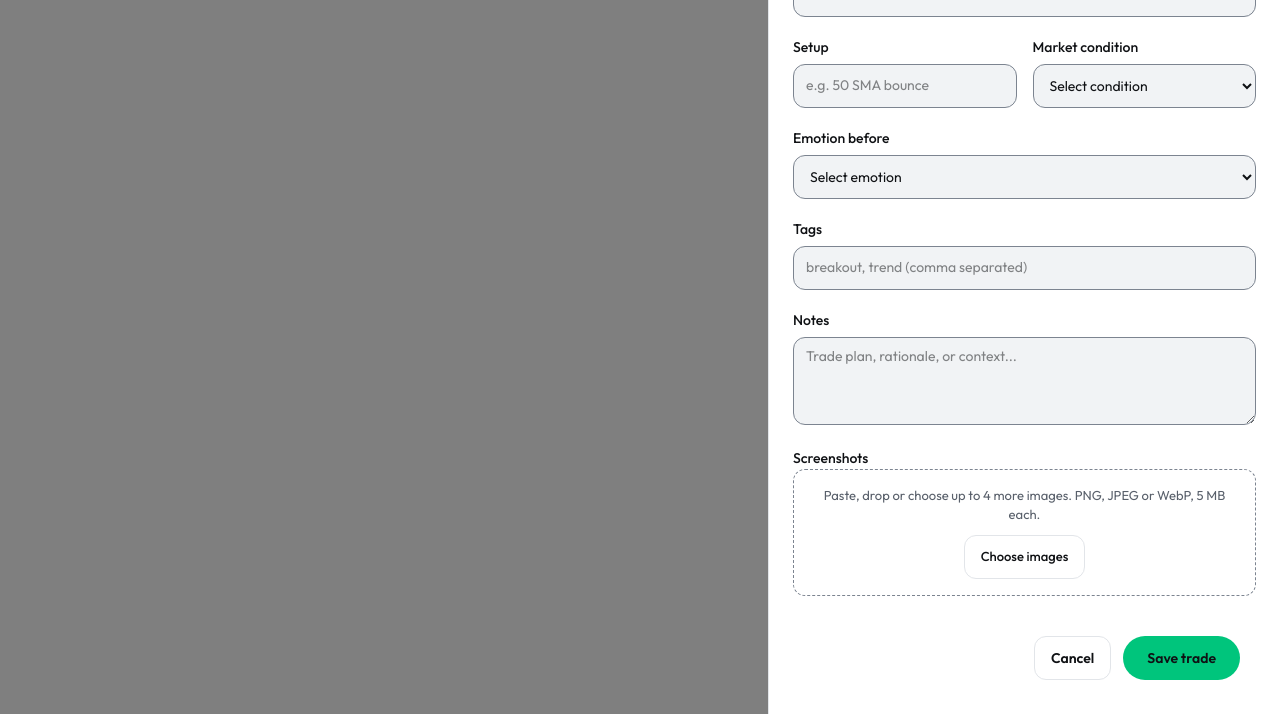
it: LogTradeSheet › displays server error inline when mutation fails
(page scrolled)
Click the button "Save trade" at (1182, 658), box [1123,636,1240,680]
(page scrolled)
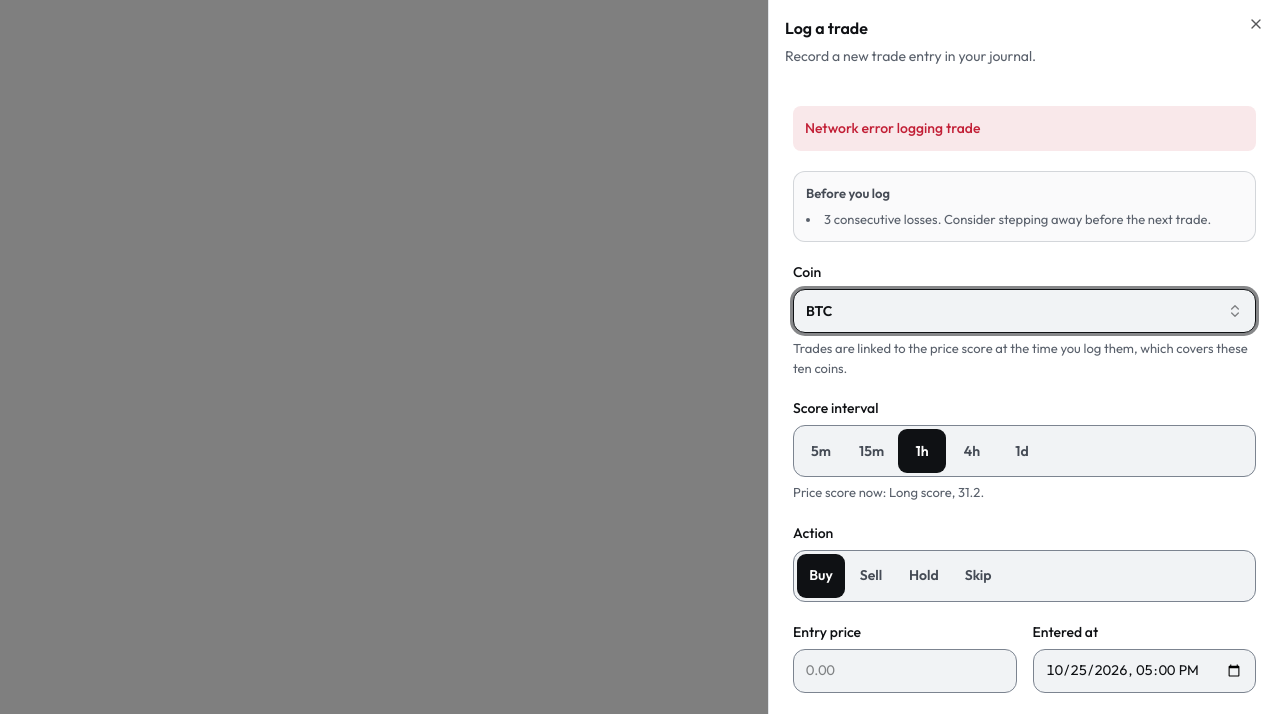
Expected: the message reads "Network error logging trade", [805,119,980,137]
